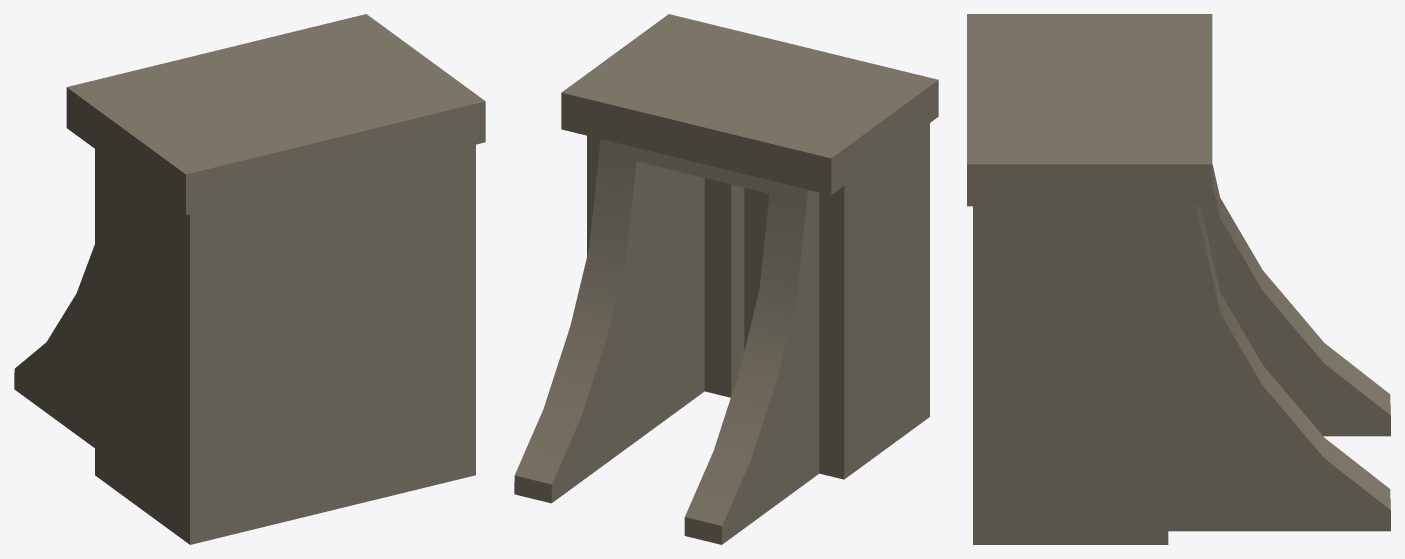
Rendered from TempleDoor_D.fbx.
3 views of the same model, side by side, from view 1: azimuth 30°, elevation 25°; view 2: azimuth 150°, elevation 25°; view 3: azimuth 270°, elevation 25° (orthographic). The views are drawn at different scales.
Parts seen in each view (by area): view 1: TempleDoor_D; view 2: TempleDoor_D; view 3: TempleDoor_D.
Part boxes in pixels (x1,y1,x2,y2): TempleDoor_D: (14,14,485,544); TempleDoor_D: (514,14,938,544); TempleDoor_D: (967,14,1390,544).
Bounding box in the file's own units: 820 × 978 × 977.
